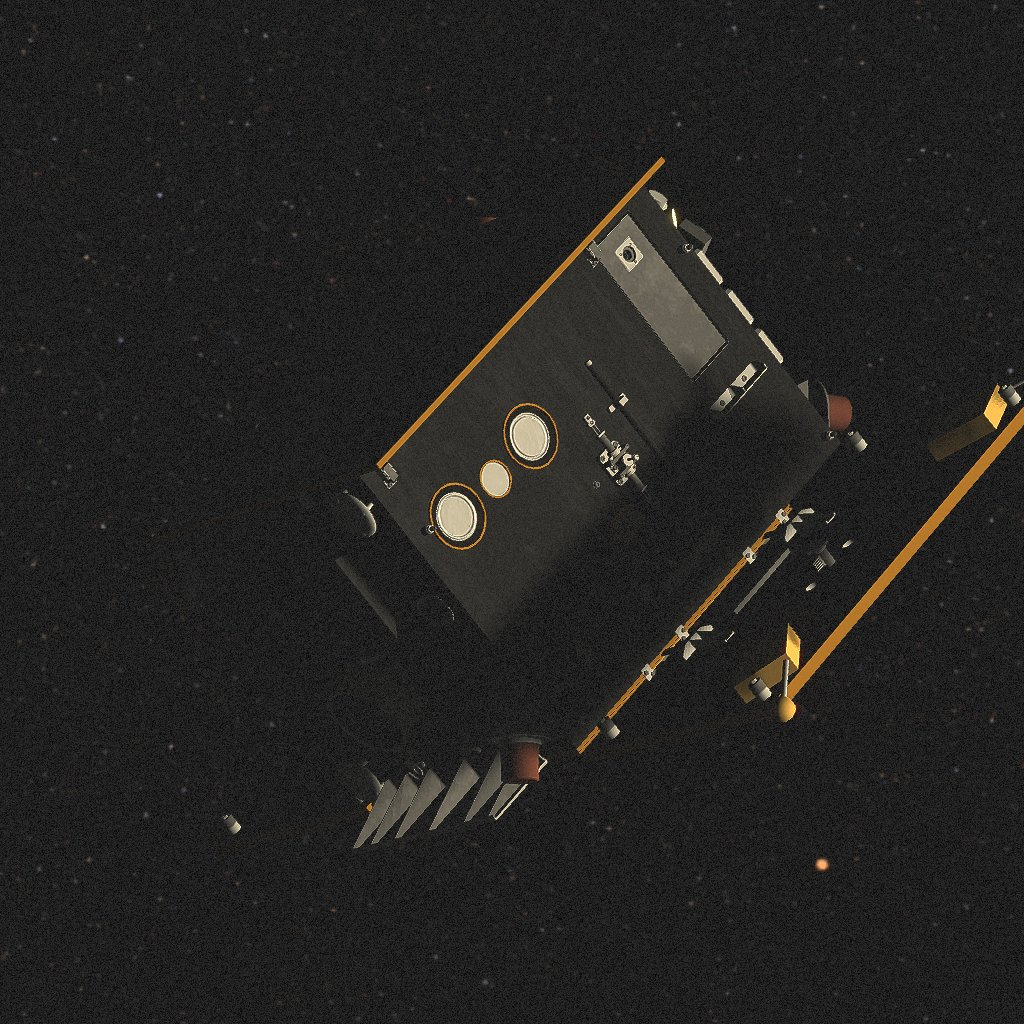proba_2: (143, 157, 1024, 854)
